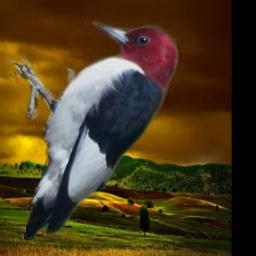Woodpecker: (6, 21, 179, 239)
